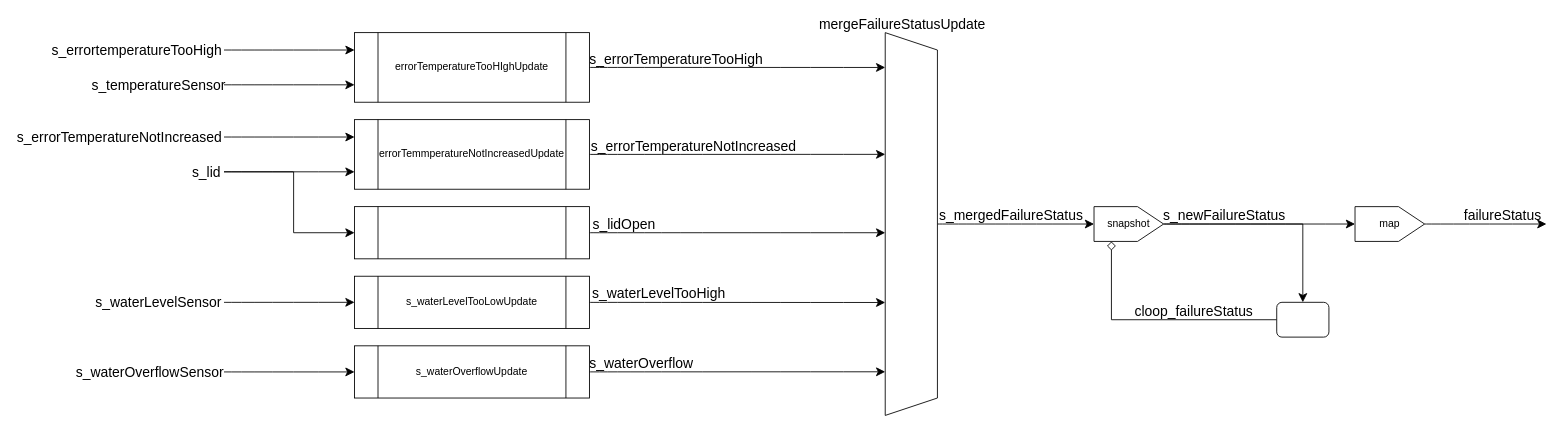
Image size: 1561x431. Some labels were removed from this diagram. Each missing label, with the centre of its shape:
"hold" goes at pixel 1302 319.
"merge" goes at pixel 910 223.
"s_lidOpenUpdate" goes at pixel 471 232.
